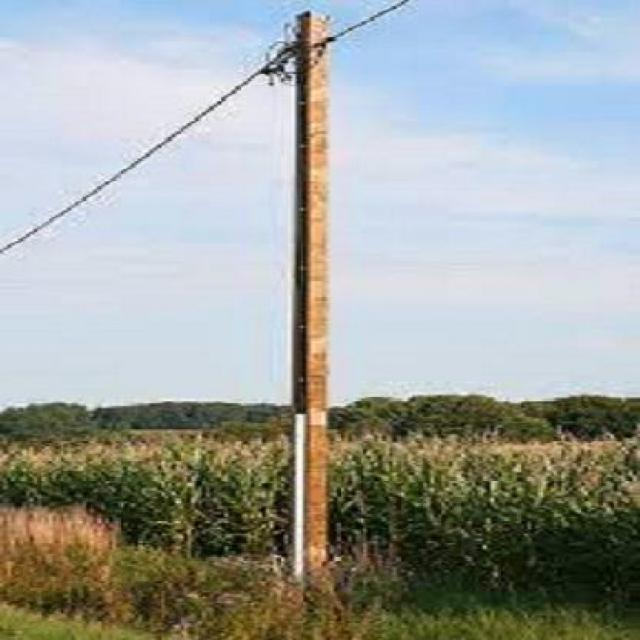pole: (232, 0, 373, 575)
